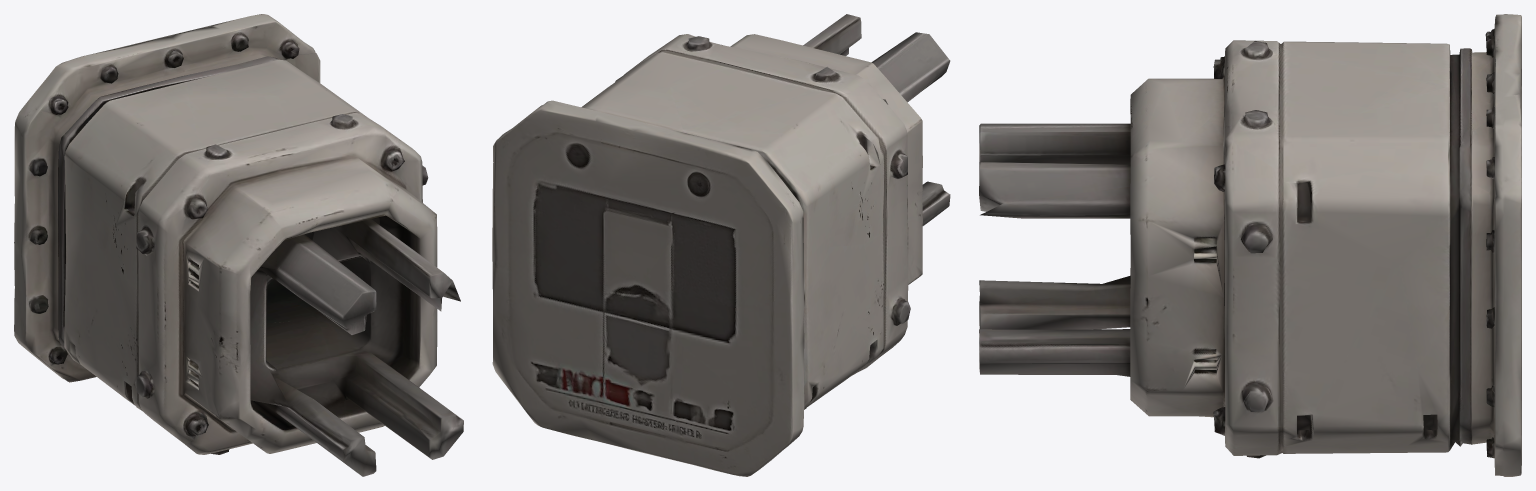
The model's file is railgunMuzzle.glb.
3 renders of one model, left to right at view 1: azimuth 30°, elevation 25°; view 2: azimuth 150°, elevation 25°; view 3: azimuth 270°, elevation 25°, orthographic. The views are drawn at different scales.
Visible parts, largest first — view 1: tripo_node_405aa1a5-b724-48aa-a53d-abb00234e9c5; view 2: tripo_node_405aa1a5-b724-48aa-a53d-abb00234e9c5; view 3: tripo_node_405aa1a5-b724-48aa-a53d-abb00234e9c5.
Part boxes in pixels (<box>): tripo_node_405aa1a5-b724-48aa-a53d-abb00234e9c5: <box>14,14,463,476</box>; tripo_node_405aa1a5-b724-48aa-a53d-abb00234e9c5: <box>492,14,950,476</box>; tripo_node_405aa1a5-b724-48aa-a53d-abb00234e9c5: <box>979,14,1521,476</box>.
Bounding box in the file's own units: 4.4 × 4.48 × 6.22.
Materials: 1 (1 with a texture image).
